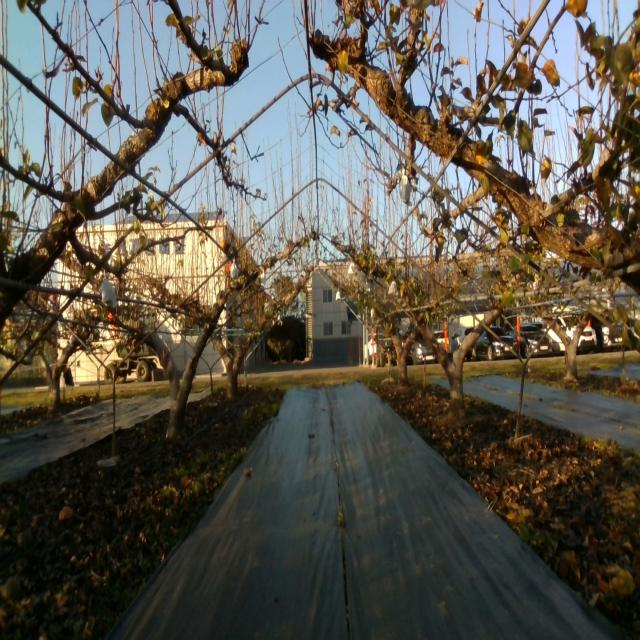pearbags: (101, 273, 118, 310), (398, 168, 412, 207)
